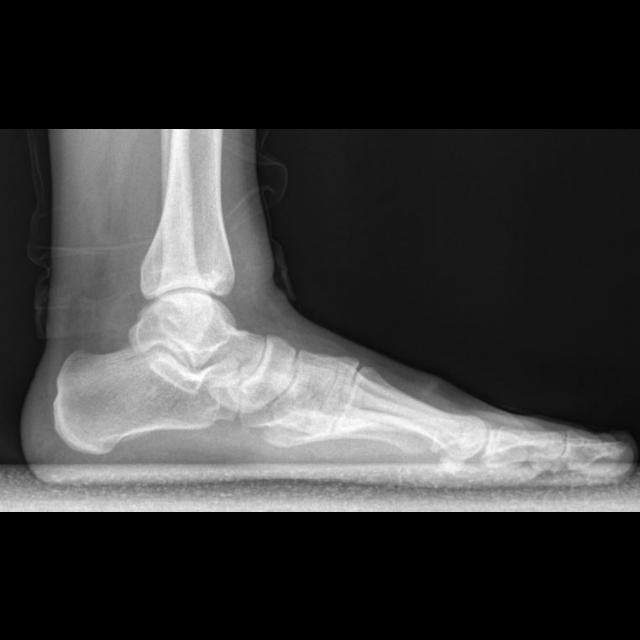a: (54, 346, 232, 454)
b: (234, 336, 296, 413)
c: (337, 365, 489, 479)
